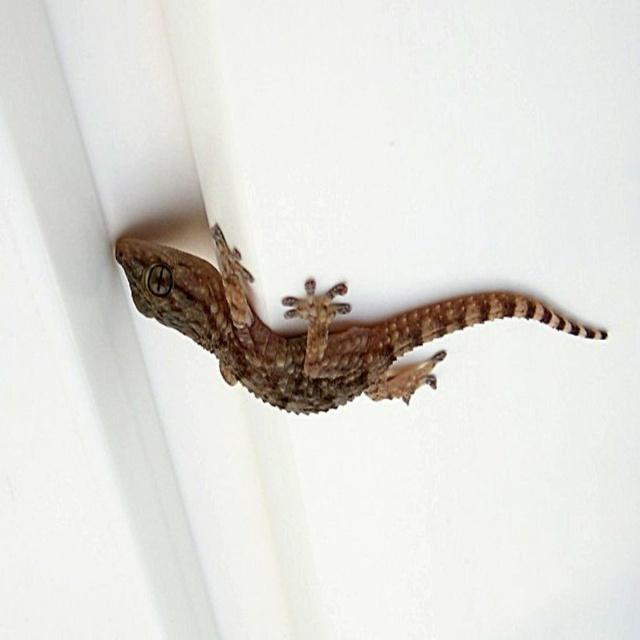Lizard: (114, 221, 606, 419)
